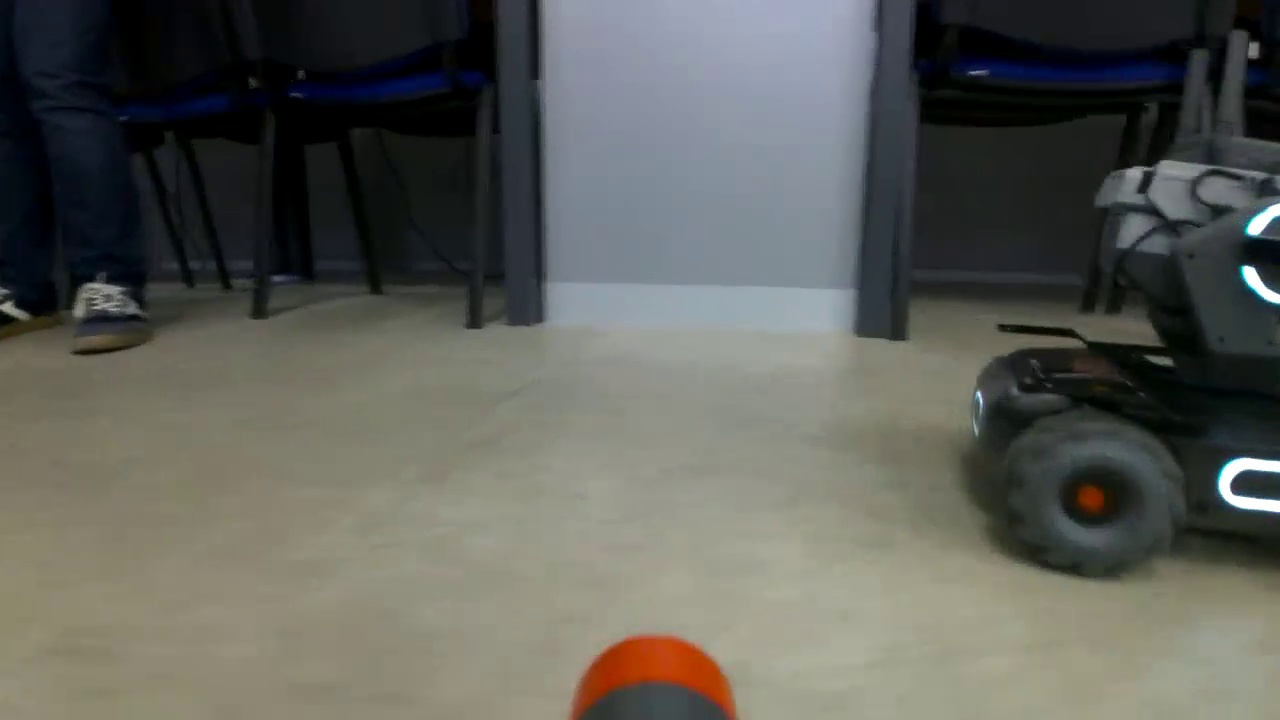robot: (970, 160, 1280, 575)
